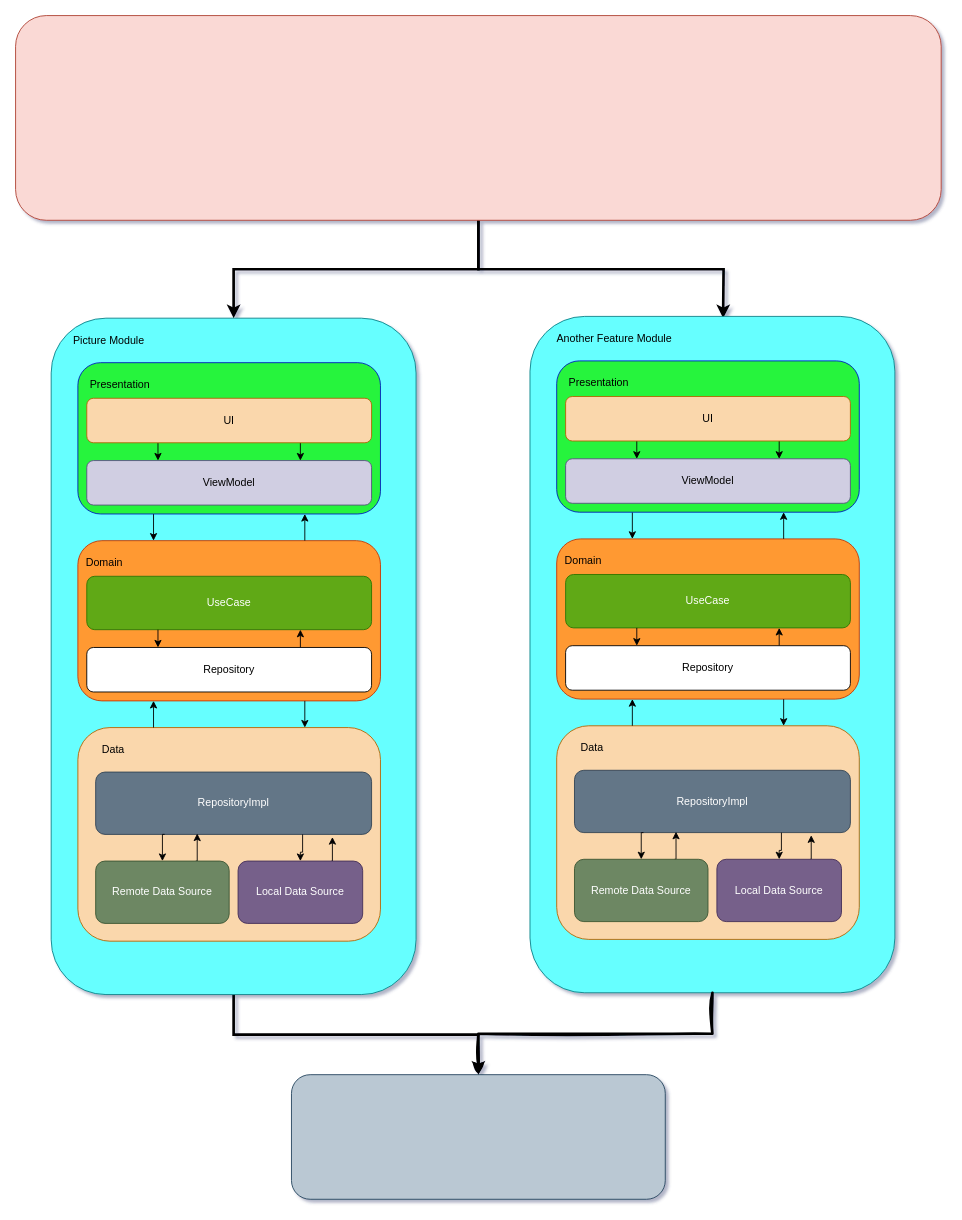
Some shapes in this 962 by 1220 pixel diagram are drawn without their labels. The centre of each missing label's shape, as x and y in pixels:
"Application Module" goes at (x=478, y=117).
"Core" goes at (x=478, y=1136).
